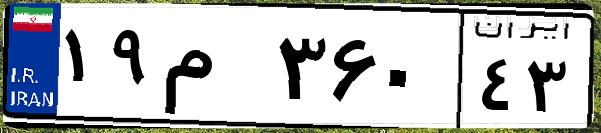0: (385, 28, 445, 110)
1: (57, 26, 110, 100)
3: (270, 28, 330, 110), (525, 38, 570, 115)
4: (475, 38, 525, 113)
6: (330, 28, 385, 110)
9: (110, 28, 158, 98)
م: (158, 20, 270, 120)
